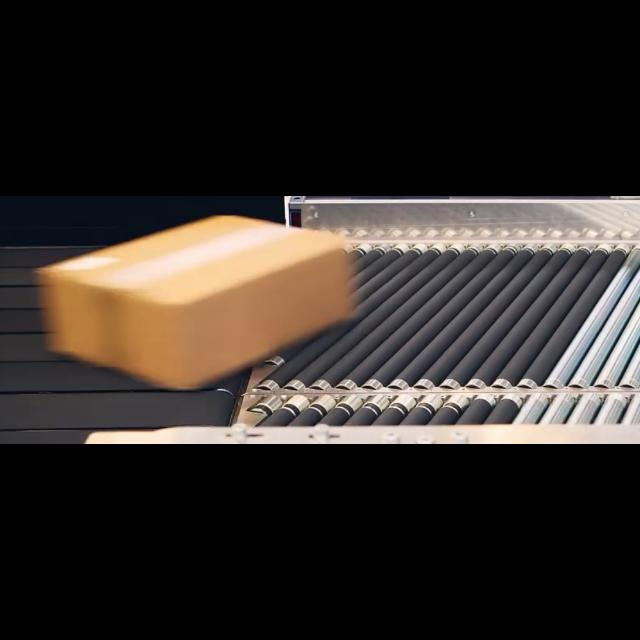box: (42, 213, 352, 381)
